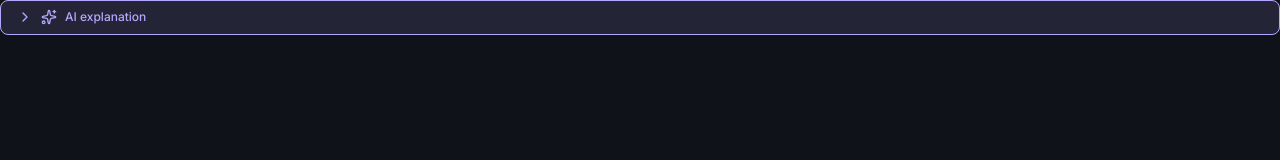
it: AiExplanation › reports errors with a retry
Click the button "AI explanation".
click(106, 16)  # box [17,9,1263,26]
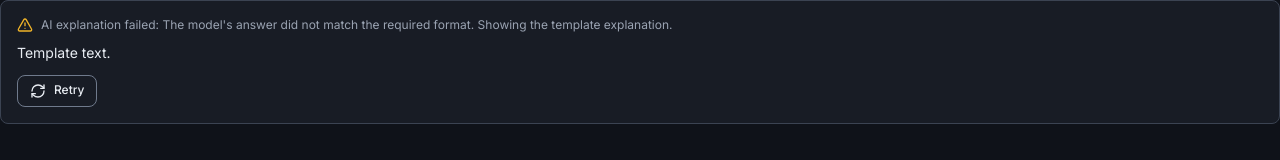
expect the text "did not match the required format" is shown: met, box [41,17,672,32]
expect the button "Retry" is shown: met, box [17,75,98,107]
